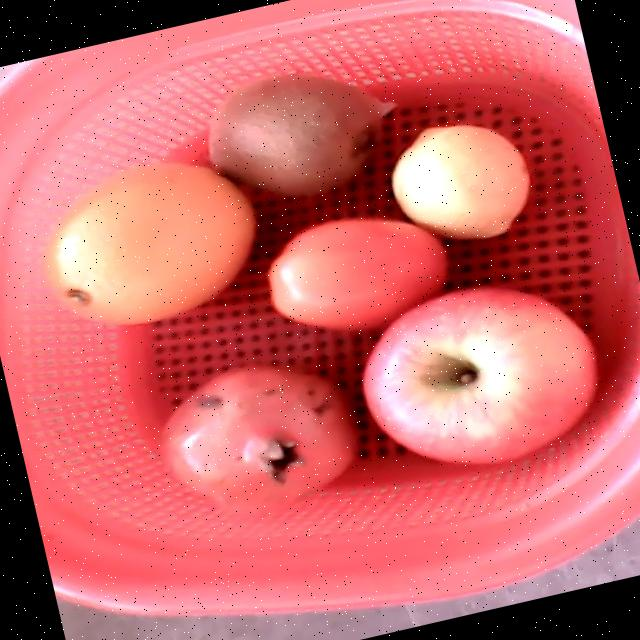apple: (361, 287, 597, 462)
kiwi: (207, 74, 383, 195)
lemon: (393, 124, 528, 238)
orange: (42, 160, 254, 325)
pomegranate: (160, 365, 353, 513)
tomato: (268, 217, 447, 329)
